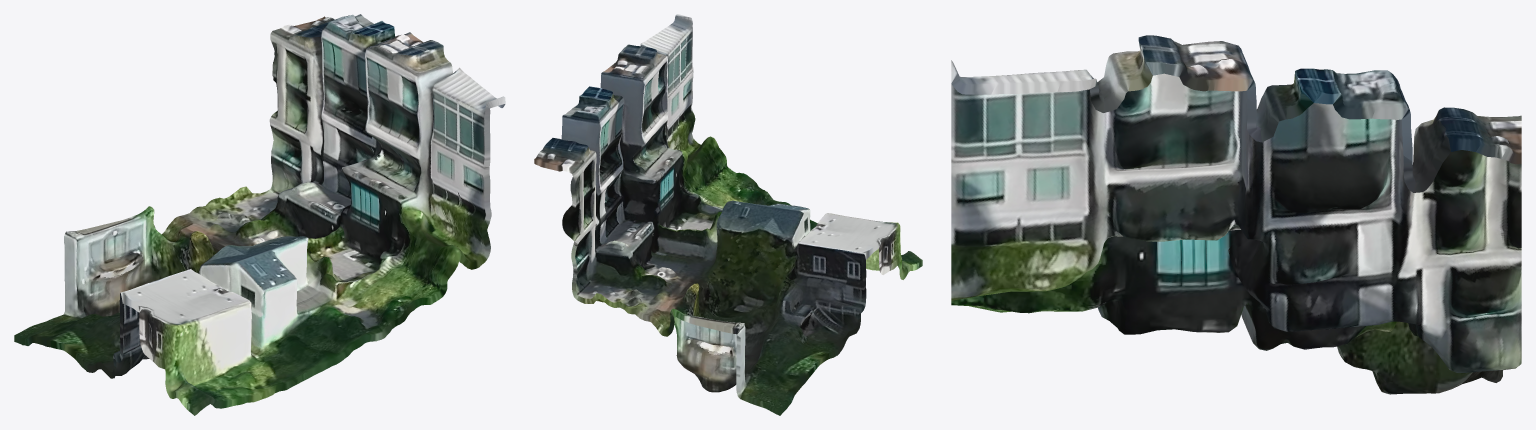
The model's file is z20-167755-405198-h0-yup-uvflip-v3-world.glb.
3 renders of one model, left to right at view 1: azimuth 30°, elevation 25°; view 2: azimuth 150°, elevation 25°; view 3: azimuth 270°, elevation 25°, orthographic. The views are drawn at different scales.
Size of the model in its own units: 30.2 by 28.56 by 30.32.
1 material, 1 textured.
